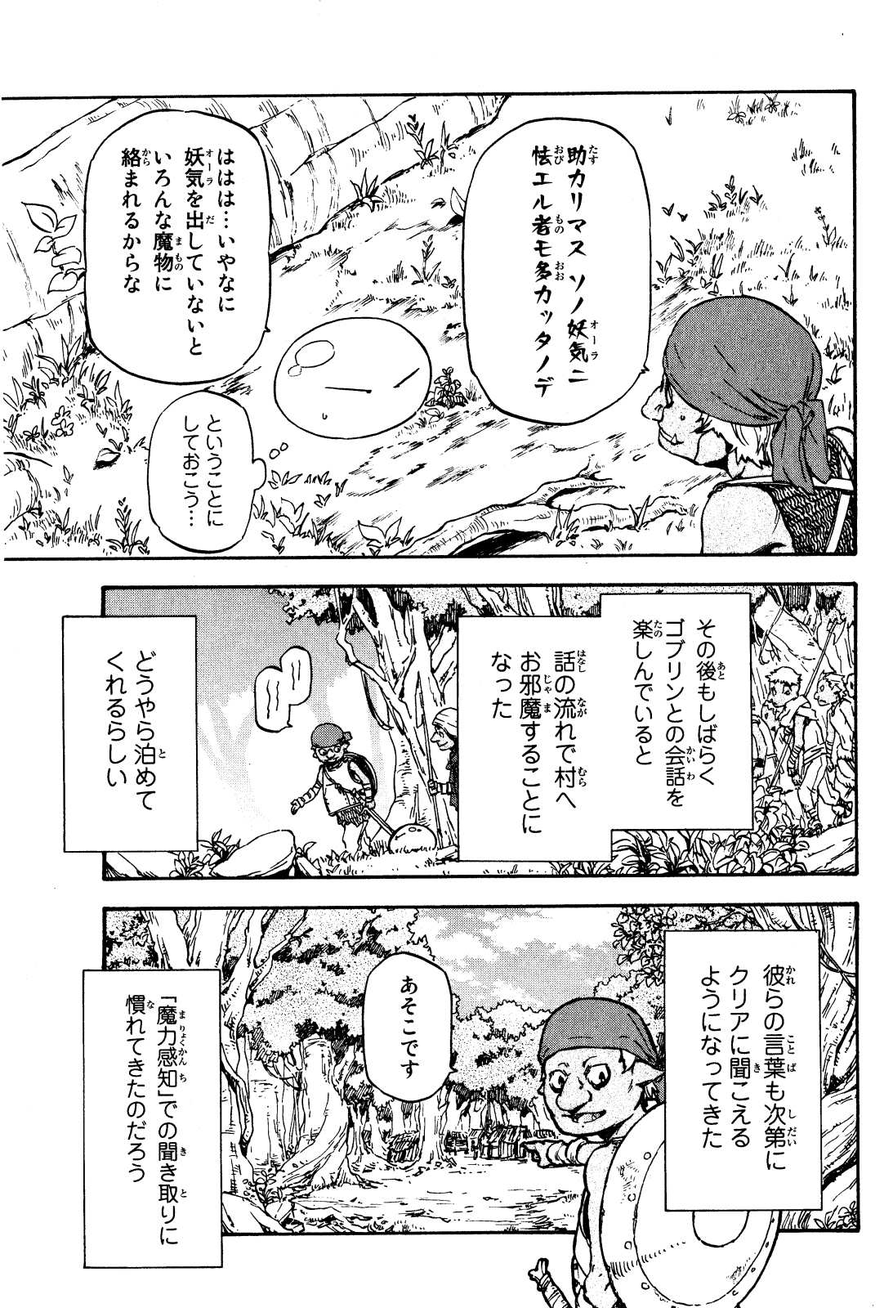bubbles: (453, 582, 757, 867), (445, 110, 658, 433), (78, 107, 281, 389), (659, 927, 828, 1215), (78, 965, 228, 1273), (54, 609, 206, 861), (137, 391, 277, 556), (358, 951, 464, 1106), (248, 638, 315, 736)
